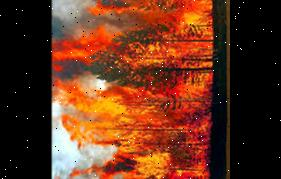fire: (51, 0, 211, 179)
